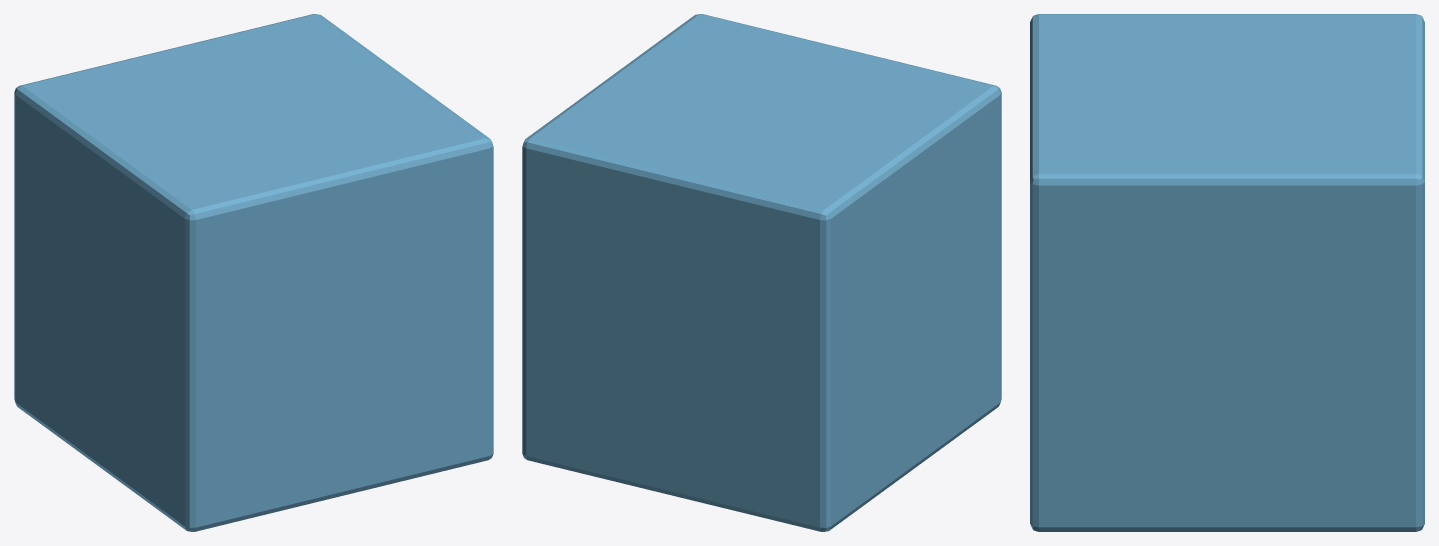
The model's file is moving.glb.
3 views of the same model, side by side, from view 1: azimuth 30°, elevation 25°; view 2: azimuth 150°, elevation 25°; view 3: azimuth 270°, elevation 25° (orthographic). The views are drawn at different scales.
Parts seen in each view (by area): view 1: Cube; view 2: Cube; view 3: Cube.
Part boxes in pixels (<box>): Cube: <box>14,14,493,531</box>; Cube: <box>522,14,1001,531</box>; Cube: <box>1030,14,1424,531</box>.
Bounding box in the file's own units: 2 × 2 × 2.
